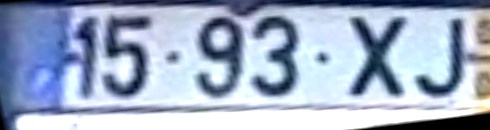1: (67, 12, 103, 103)
3: (248, 10, 307, 106)
5: (100, 13, 158, 102)
9: (186, 12, 252, 104)
J: (414, 16, 471, 105)
X: (341, 15, 417, 101)
